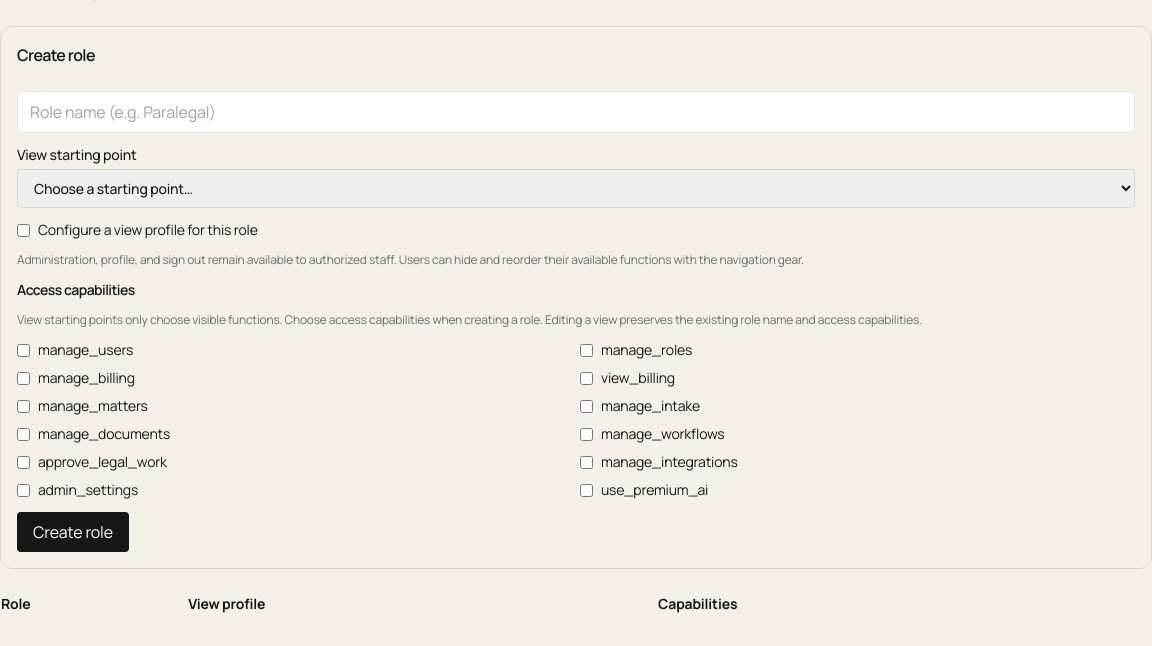
Scenario: creates a receptionist view with the six requested functions
Select "Receptionist" in the dropdown labelled "View starting point": [576, 188] box [17,169,1135,208]
(page scrolled)
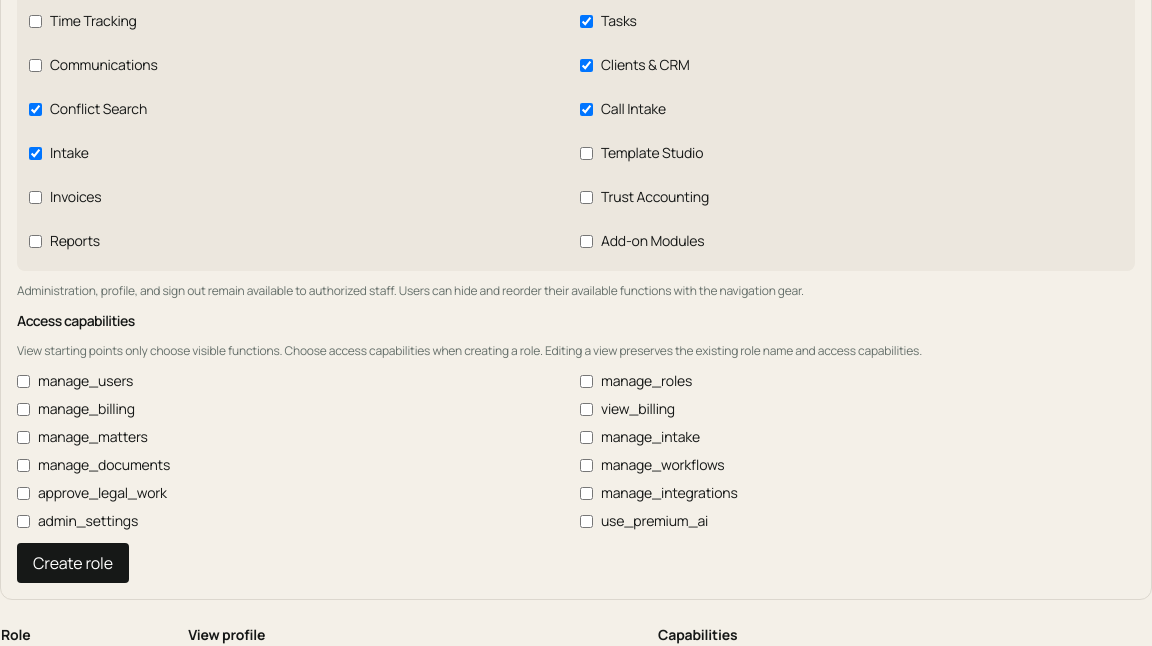
Now the checkbox labelled "Intake" is checked, box [29,146,42,160]
Now the checkbox labelled "Invoices" is not checked, box [29,190,42,204]
Click the button "Create role": [73, 563] box [17,543,129,583]
(page scrolled)
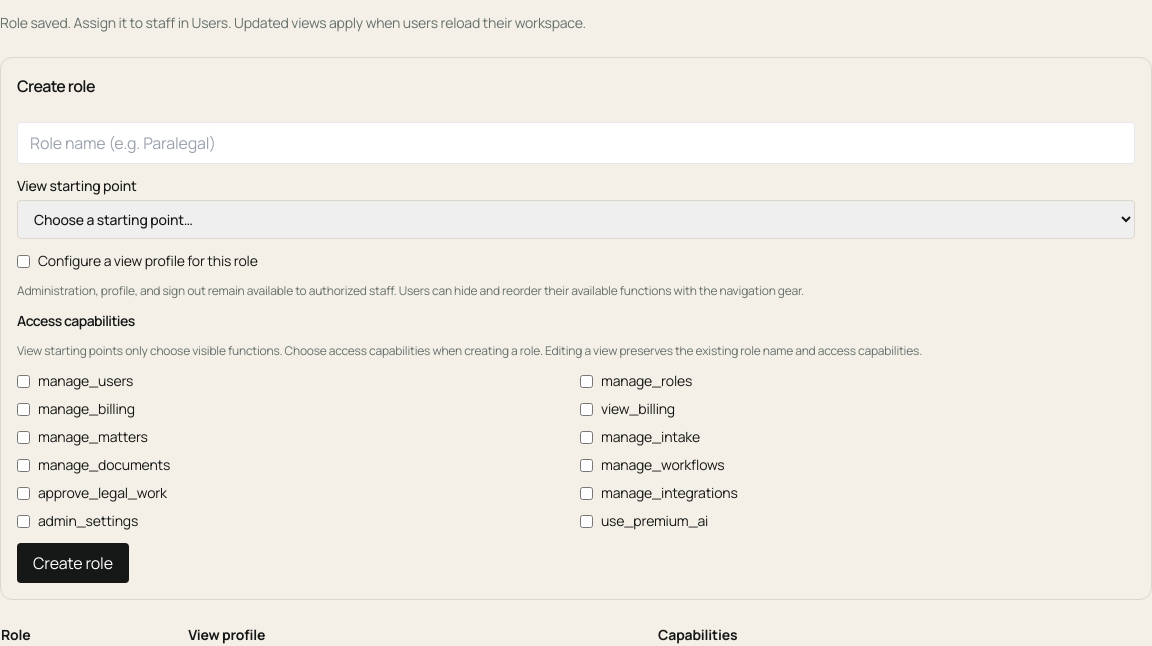
Now the message shows "Role saved", box [0,13,586,32]
